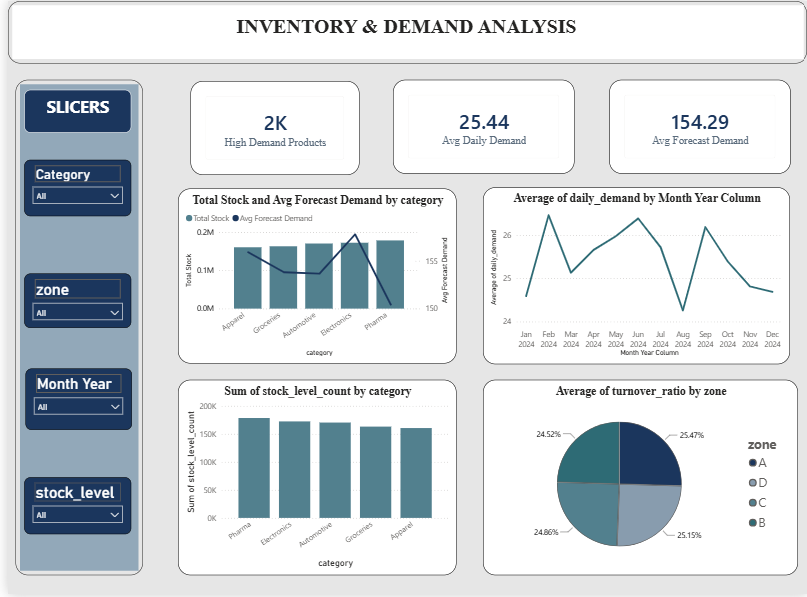

The page's visual inventory and layout, read from the dashboard file:
{"tool":"powerbi","page":{"name":"Page 2","canvas":[1280,950],"ordinal":1},"visuals":[{"type":"shape","box":[27.1,141.4,170,93.3],"z":0},{"type":"shape","box":[12.9,125.7,204.3,792.9],"z":1000},{"type":"shape","box":[0,0,1280,100],"z":2000},{"type":"textbox","box":[12.9,15.7,1251.4,71.4],"z":3000},{"type":"textbox","box":[25.7,141.4,171.4,68.6],"z":4000},{"type":"slicer","fields":{"Values":["logistics_dataset.category"]},"box":[25.7,254.3,171.4,90],"z":5000},{"type":"slicer","fields":{"Values":["logistics_dataset.zone"]},"box":[25.7,435.7,171.4,87.1],"z":6000},{"type":"slicer","fields":{"Values":["logistics_dataset.Month Year Column"]},"box":[27.1,588.6,170,98.6],"z":7000},{"type":"slicer","fields":{"Values":["logistics_dataset.stock_level"]},"box":[25.7,762.9,171.4,91.4],"z":8000},{"type":"cardVisual","fields":{"Data":["Measures (2).High Demand Products"]},"box":[292.9,127.1,270,150],"z":9000},{"type":"cardVisual","fields":{"Data":["Measures (2).Avg Daily Demand"]},"box":[615.7,125.7,290,150],"z":10000},{"type":"cardVisual","fields":{"Data":["Measures (2).Avg Forecast Demand"]},"box":[961.4,125.7,290,150],"z":11000},{"type":"lineStackedColumnComboChart","fields":{"Category":["logistics_dataset.category"],"Y":["Measures (2).Total Stock"],"Y2":["Measures (2).Avg Forecast Demand"]},"box":[272.9,300,445.7,280],"z":12000},{"type":"pieChart","fields":{"Category":["logistics_dataset.zone"],"Y":["Avg(logistics_dataset.turnover_ratio)"]},"box":[760,605.7,504.3,312.9],"z":13000},{"type":"lineChart","fields":{"Y":["Avg(logistics_dataset.daily_demand)"],"Category":["logistics_dataset.Month Year Column"]},"box":[760,297.1,491.4,282.9],"z":14000},{"type":"columnChart","fields":{"Category":["logistics_dataset.category"],"Y":["Sum(logistics_dataset.stock_level_count)"]},"box":[272.9,605.7,445.7,312.9],"z":15000}]}

Visuals, with their boxes in screenshot pixels (x1, y1, x2, y2), scaled from the page's 1280x950 canvas onto the 807x597 screenshot:
shape: [17, 89, 124, 147]
shape: [8, 79, 137, 577]
shape: [0, 0, 806, 63]
textbox: [8, 10, 797, 55]
textbox: [16, 89, 124, 132]
slicer - logistics_dataset.category: [16, 160, 124, 216]
slicer - logistics_dataset.zone: [16, 274, 124, 329]
slicer - logistics_dataset.Month Year Column: [17, 370, 124, 432]
slicer - logistics_dataset.stock_level: [16, 479, 124, 537]
cardVisual - Measures (2).High Demand Products: [185, 80, 355, 174]
cardVisual - Measures (2).Avg Daily Demand: [388, 79, 571, 173]
cardVisual - Measures (2).Avg Forecast Demand: [606, 79, 789, 173]
lineStackedColumnComboChart - logistics_dataset.category x Measures (2).Total Stock: [172, 189, 453, 364]
pieChart - logistics_dataset.zone x Avg(logistics_dataset.turnover_ratio): [479, 381, 797, 577]
lineChart - Avg(logistics_dataset.daily_demand) x logistics_dataset.Month Year Column: [479, 187, 789, 364]
columnChart - logistics_dataset.category x Sum(logistics_dataset.stock_level_count): [172, 381, 453, 577]
